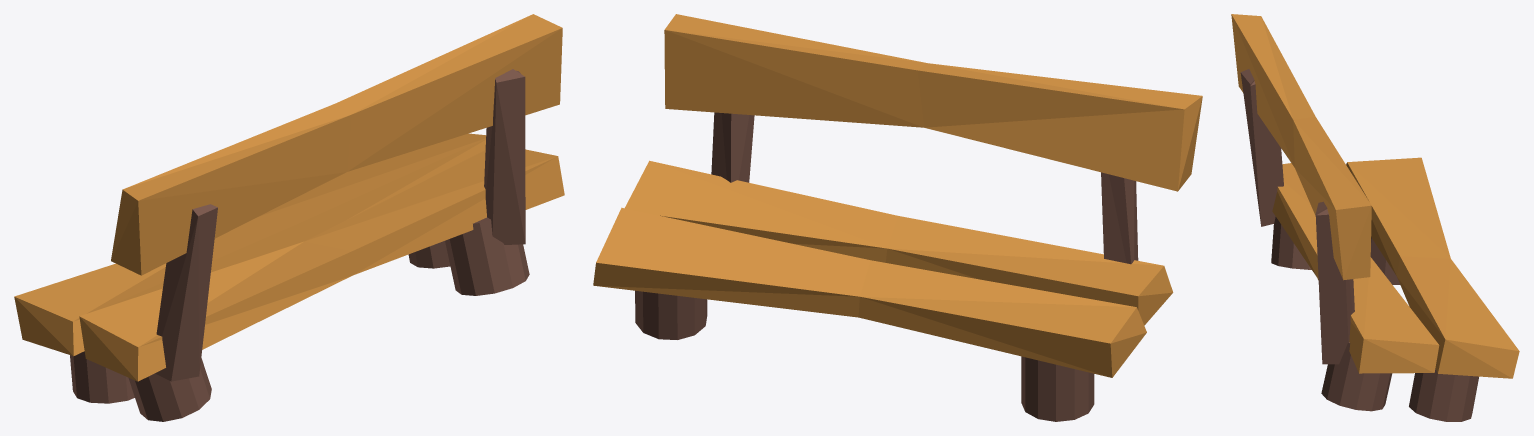
Rendered from bench.obj.
3 renders of one model, left to right at view 1: azimuth 30°, elevation 25°; view 2: azimuth 150°, elevation 25°; view 3: azimuth 270°, elevation 25°, orthographic. The views are drawn at different scales.
Parts seen in each view (by area): view 1: group2086105856, group447724109, group1447054442, group1857767654, group361907561, group1064794239, group1480869683, group1698771934, group613786310; view 2: group2086105856, group1447054442, group447724109, group1698771934, group1857767654, group613786310, group361907561; view 3: group1447054442, group2086105856, group447724109, group361907561, group1857767654, group613786310, group1064794239, group1480869683, group1698771934.
Part boxes in pixels (left/top/right/bottom): group2086105856: left=111, top=14, right=562, bottom=275; group447724109: left=79, top=149, right=564, bottom=381; group1447054442: left=14, top=133, right=486, bottom=356; group1857767654: left=155, top=204, right=217, bottom=381; group361907561: left=484, top=69, right=525, bottom=244; group1064794239: left=445, top=217, right=529, bottom=295; group1480869683: left=128, top=358, right=211, bottom=421; group1698771934: left=70, top=351, right=134, bottom=403; group613786310: left=408, top=241, right=450, bottom=268; group2086105856: left=664, top=14, right=1202, bottom=191; group1447054442: left=593, top=207, right=1146, bottom=377; group447724109: left=625, top=160, right=1173, bottom=325; group1698771934: left=1021, top=356, right=1094, bottom=421; group1857767654: left=1101, top=172, right=1138, bottom=264; group613786310: left=635, top=290, right=707, bottom=339; group361907561: left=711, top=112, right=754, bottom=182; group1447054442: left=1346, top=157, right=1519, bottom=378; group2086105856: left=1231, top=14, right=1371, bottom=280; group447724109: left=1272, top=163, right=1439, bottom=373; group361907561: left=1315, top=201, right=1354, bottom=364; group1857767654: left=1240, top=69, right=1283, bottom=226; group613786310: left=1409, top=368, right=1478, bottom=421; group1064794239: left=1321, top=342, right=1392, bottom=411; group1480869683: left=1271, top=217, right=1311, bottom=269; group1698771934: left=1370, top=237, right=1400, bottom=284.
Size of the model in its own units: 0.9418 by 0.4947 by 0.5271.
